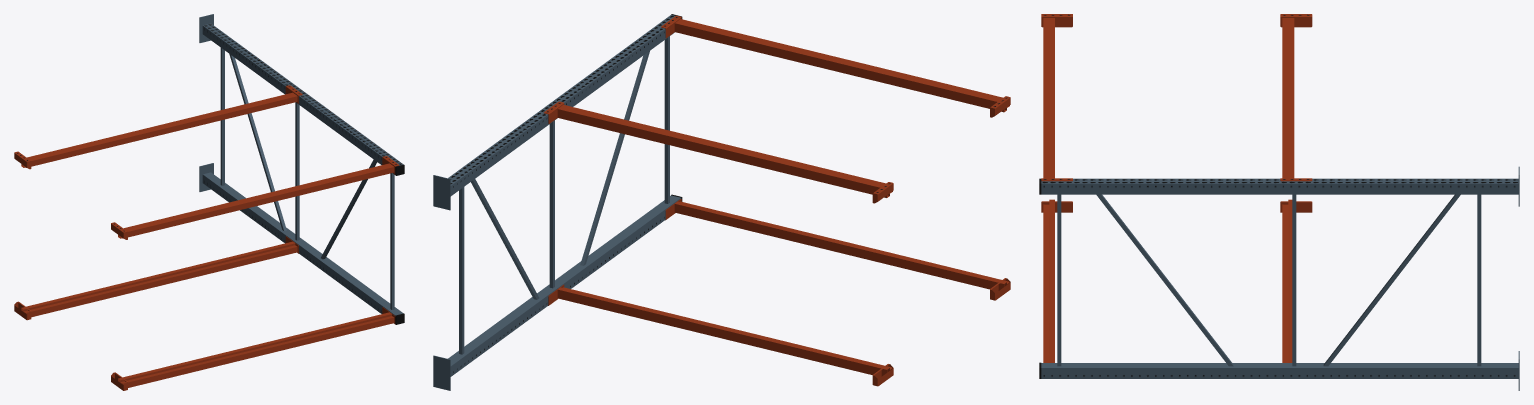
The picture shows the model from 3 angles, left to right: view 1: azimuth 30°, elevation 25°; view 2: azimuth 150°, elevation 25°; view 3: azimuth 270°, elevation 25°; orthographic projection. The views are drawn at different scales.
Visible parts, largest first — view 1: Box014.005; view 2: Box014.005; view 3: Box014.005.
Part boxes in pixels (bbox=[...]): Box014.005: bbox=[14, 14, 404, 390]; Box014.005: bbox=[433, 14, 1010, 390]; Box014.005: bbox=[1039, 14, 1519, 390].
Bounding box in the file's own units: 2.58 × 1.52 × 3.06.
1 material, 1 textured.
